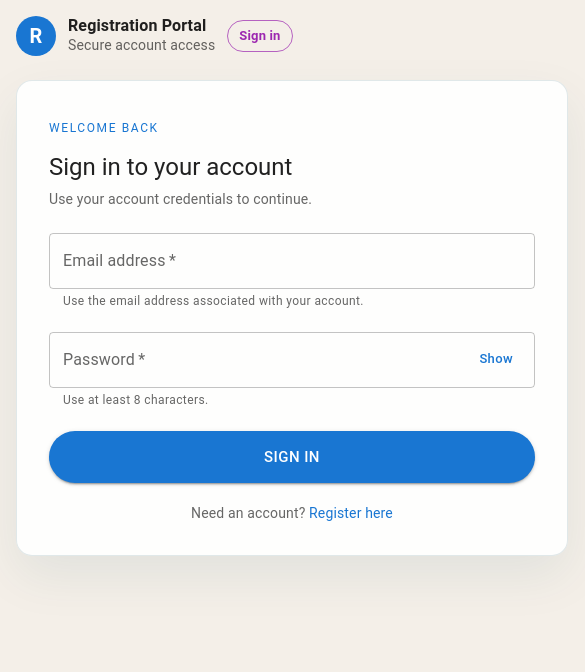
Scenario: LoginPage › shows a network error when login cannot reach the backend
Expected: the heading "Sign in to your account" is shown, [49, 153, 292, 181]
Type "ada@example.com" into the field labelled "Email address" at (292, 261), box [49, 233, 535, 289]
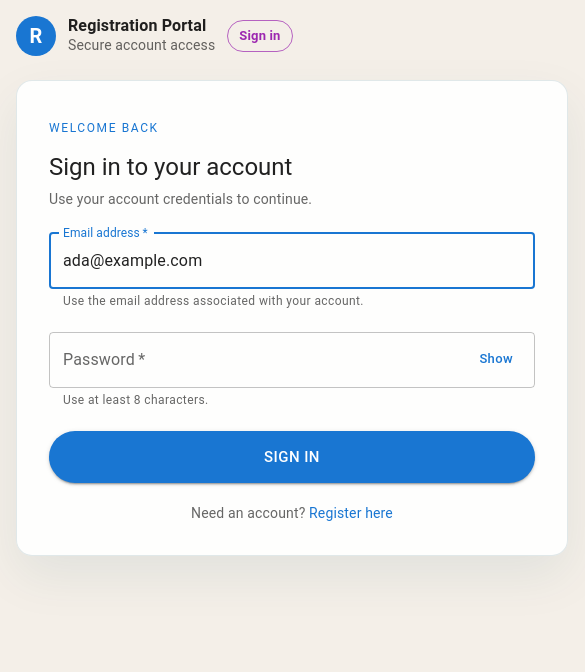
Type "Password123!" into the password field labelled "Password *" at (256, 360), box [49, 332, 463, 388]
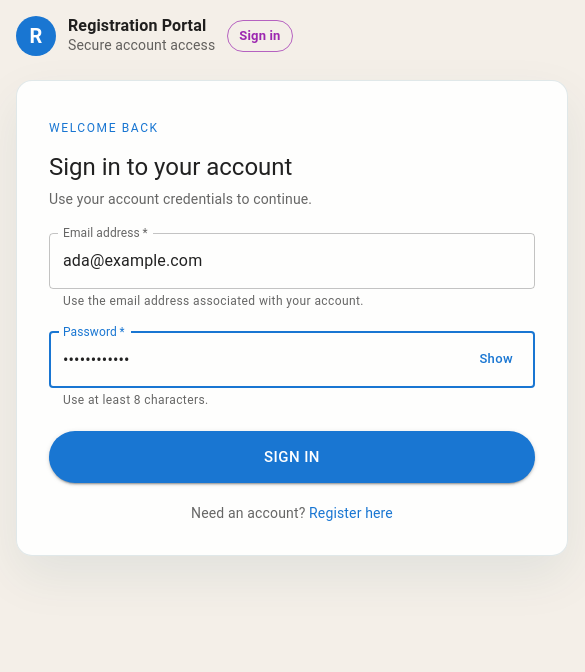
Click the button "Sign in" at (292, 457), box [49, 431, 535, 483]
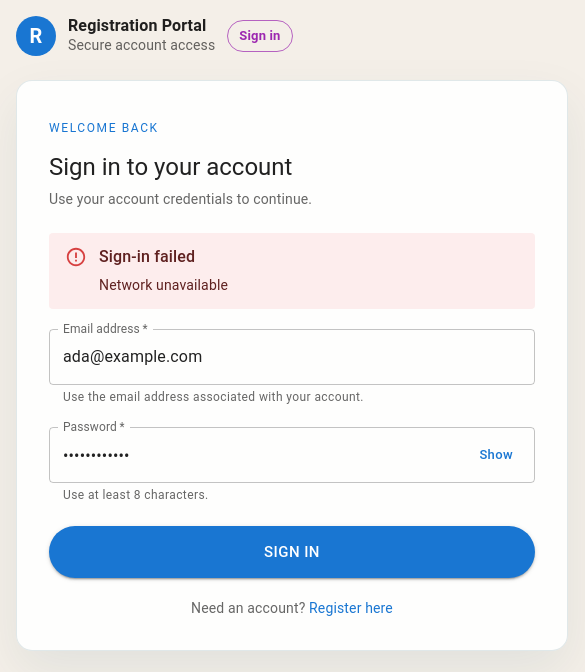
Now the text "Network unavailable" is shown, box [99, 276, 228, 292]
